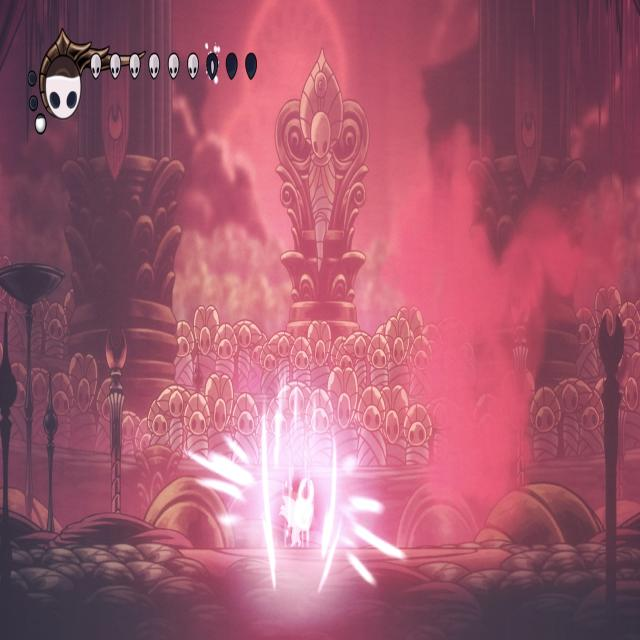Player: (276, 473, 319, 550)
